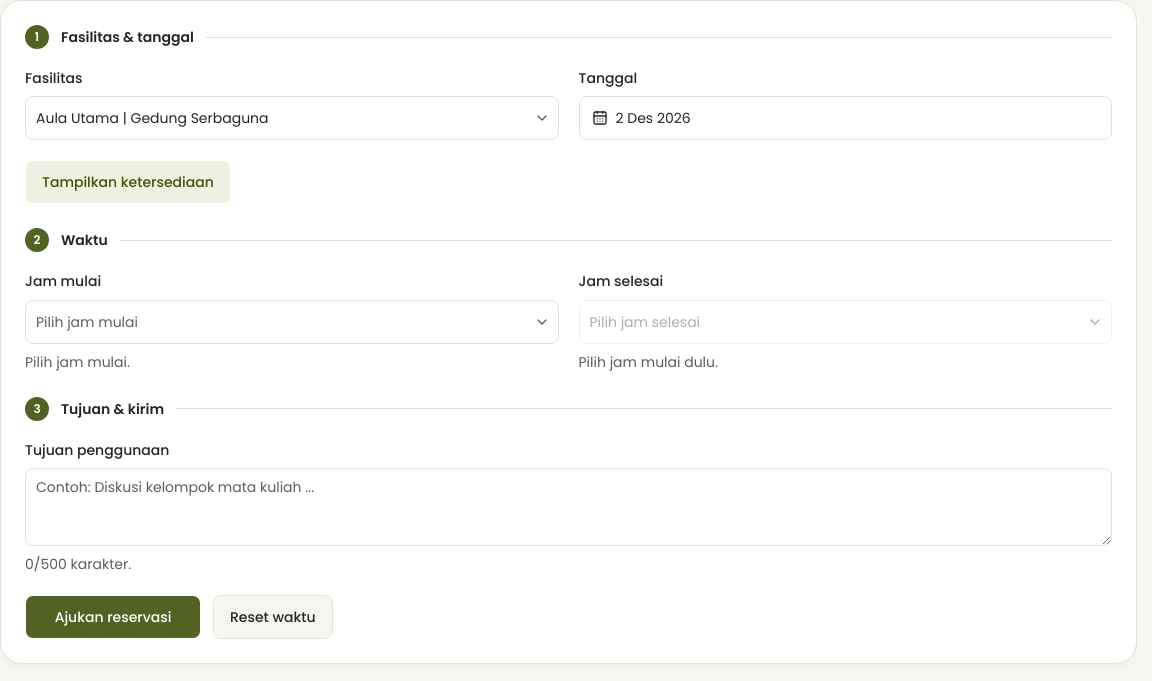
Test case: ReservationForm penjelasan slot belum dimuat › menerangkan slot belum dimuat saat fasilitas dipilih tapi belum diterapkan
This screenshot has width=1152, height=681.
Expected: the text "belum dimuat" is not shown
Click the dropdown labelled "Aula Utama | Gedung Serbaguna ▼".
click(152, 118)  # box [25,96,558,140]
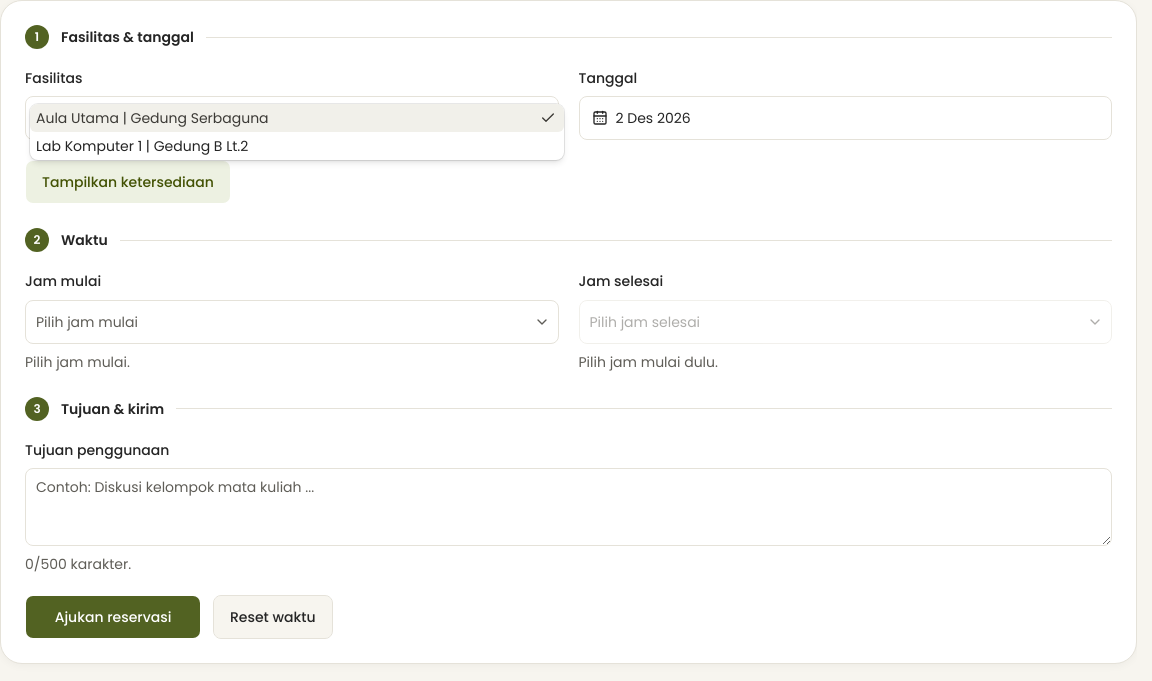
Click the option "Lab Komputer 1 | Gedung B Lt.2".
click(142, 146)  # box [36,136,248,156]
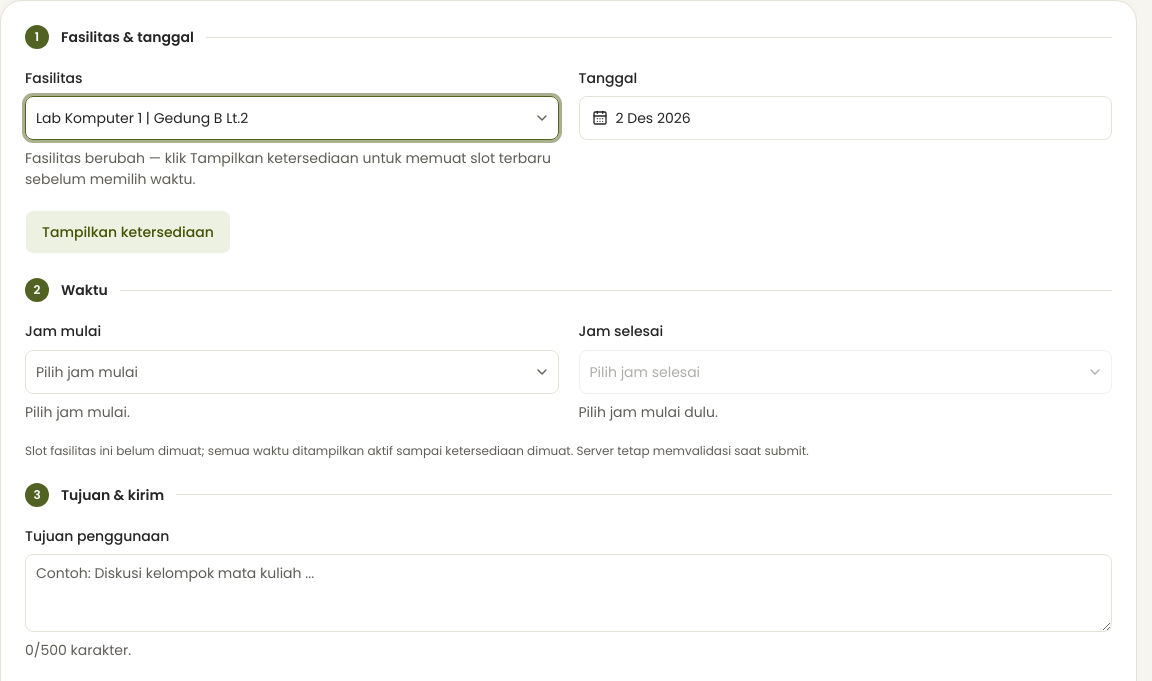
Now the text "Slot fasilitas ini belum dimuat" is shown, box [25,442,809,458]
